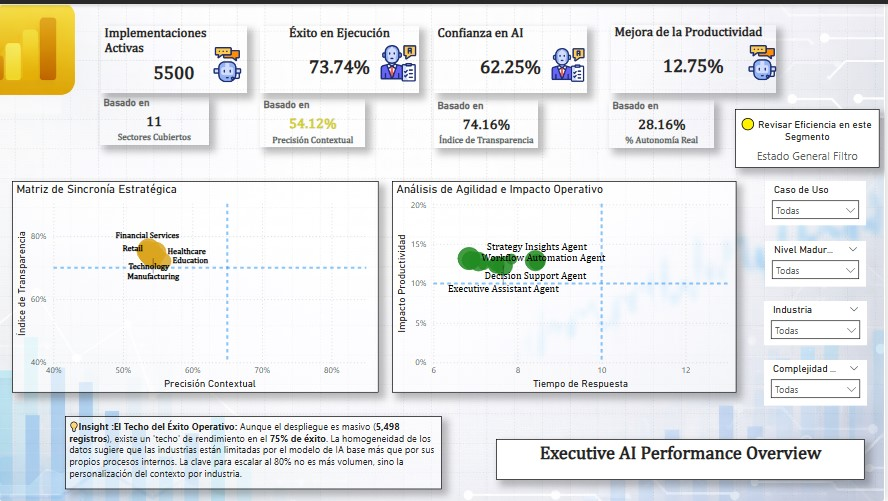

The dashboard page shown, as its layout file describes it:
{"tool":"powerbi","page":{"name":"Resumen Ejecutivo","canvas":[1280,720],"ordinal":0},"visuals":[{"type":"card","title":"Implementaciones Activas","fields":{"Values":["_Medidas.Total Implementaciones"]},"box":[147.5,31.8,211.1,96.9],"z":0},{"type":"card","title":"Éxito en Ejecución","fields":{"Values":["_Medidas.Promedio Tasa de Éxito"]},"box":[377.3,31.8,229.9,96.9],"z":1000},{"type":"image","box":[548,59.3,59.3,53.5],"z":2000},{"type":"card","title":"Confianza en AI","fields":{"Values":["_Medidas.Confianza Media"]},"box":[628.9,31.8,221.2,96.9],"z":3000},{"type":"card","title":"Basado en ","fields":{"Values":["_Medidas.Precisión Contextual"]},"box":[377.9,137.1,152.4,70.1],"z":4000},{"type":"card","title":"Basado en ","fields":{"Values":["_Medidas.Índice de Transparencia"]},"box":[629.3,138.7,150.9,68.6],"z":5000},{"type":"card","title":"Basado en ","fields":{"Values":["_Medidas.Sectores Cubiertos"]},"box":[146.3,134.1,157,68.6],"z":6000},{"type":"card","title":"Mejora de la Productividad","fields":{"Values":["_Medidas.Promedio Mejora Productividad"]},"box":[885.3,30.5,237.7,99],"z":7000},{"type":"card","title":"Basado en ","fields":{"Values":["_Medidas.% Autonomía Real"]},"box":[882.3,138.7,152.4,68.6],"z":8000},{"type":"scatterChart","title":"Matriz de Sincronía Estratégica","fields":{"Size":["_Medidas.Total Implementaciones"],"X":["_Medidas.Precisión Contextual"],"Y":["_Medidas.Índice de Transparencia"],"Category":["dim_industry.industry_name"]},"box":[18.3,256,530.3,306.3],"z":9000},{"type":"scatterChart","title":"Análisis de Agilidad e Impacto Operativo","fields":{"X":["_Medidas.Latencia Media"],"Y":["_Medidas.Impacto Productividad"],"Category":["dim_agent.agent_type"],"Size":["_Medidas.Total Implementaciones"]},"box":[568.4,256,498.3,306.3],"z":10000},{"type":"slicer","fields":{"Values":["dim_industry.industry_name"]},"box":[1105.5,429.7,149.3,64],"z":11000},{"type":"slicer","fields":{"Values":["dim_leadership.ai_maturity_level"]},"box":[1107,342.1,146.3,65.5],"z":12000},{"type":"slicer","fields":{"Values":["dim_agent.use_case_area"]},"box":[1107,256,146.3,64],"z":13000},{"type":"textbox","box":[719.2,629.3,533.3,59.4],"z":14000},{"type":"image","box":[303.6,62.2,53.5,50.6],"z":15000},{"type":"image","box":[795.2,63.6,54.9,49.2],"z":16000},{"type":"image","box":[1077.1,59.3,53.5,50.6],"z":17000},{"type":"textbox","box":[95.4,595.7,545.1,105.5],"z":18000},{"type":"slicer","fields":{"Values":["dim_agent.task_complexity_level"]},"box":[1105.5,515,149.3,65.5],"z":19000},{"type":"card","fields":{"Values":["_Medidas.Estado General Filtro"]},"box":[1063.6,152.4,208.8,85.3],"z":20000}]}

Visuals, with their boxes in screenshot pixels (x1, y1, x2, y2), scaled from the page's 1280x720 canvas onto the 888x501 screenshot:
"Implementaciones Activas" card: {"left": 102, "top": 22, "right": 249, "bottom": 90}
"Éxito en Ejecución" card: {"left": 262, "top": 22, "right": 421, "bottom": 90}
image: {"left": 380, "top": 41, "right": 421, "bottom": 78}
"Confianza en AI" card: {"left": 436, "top": 22, "right": 590, "bottom": 90}
"Basado en " card: {"left": 262, "top": 95, "right": 368, "bottom": 144}
"Basado en " card: {"left": 437, "top": 97, "right": 541, "bottom": 144}
"Basado en " card: {"left": 101, "top": 93, "right": 210, "bottom": 141}
"Mejora de la Productividad" card: {"left": 614, "top": 21, "right": 779, "bottom": 90}
"Basado en " card: {"left": 612, "top": 97, "right": 718, "bottom": 144}
"Matriz de Sincronía Estratégica" scatterChart: {"left": 13, "top": 178, "right": 381, "bottom": 391}
"Análisis de Agilidad e Impacto Operativo" scatterChart: {"left": 394, "top": 178, "right": 740, "bottom": 391}
slicer - dim_industry.industry_name: {"left": 767, "top": 299, "right": 871, "bottom": 344}
slicer - dim_leadership.ai_maturity_level: {"left": 768, "top": 238, "right": 869, "bottom": 284}
slicer - dim_agent.use_case_area: {"left": 768, "top": 178, "right": 869, "bottom": 223}
textbox: {"left": 499, "top": 438, "right": 869, "bottom": 479}
image: {"left": 211, "top": 43, "right": 248, "bottom": 78}
image: {"left": 552, "top": 44, "right": 590, "bottom": 78}
image: {"left": 747, "top": 41, "right": 784, "bottom": 76}
textbox: {"left": 66, "top": 415, "right": 444, "bottom": 488}
slicer - dim_agent.task_complexity_level: {"left": 767, "top": 358, "right": 871, "bottom": 404}
card - _Medidas.Estado General Filtro: {"left": 738, "top": 106, "right": 883, "bottom": 165}
